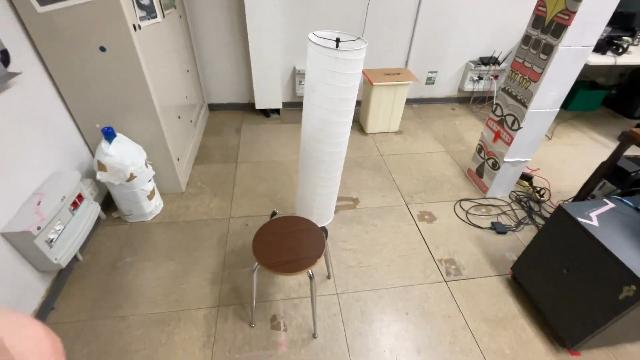Lamp: (287, 23, 371, 246)
Stool: (243, 214, 335, 342)
